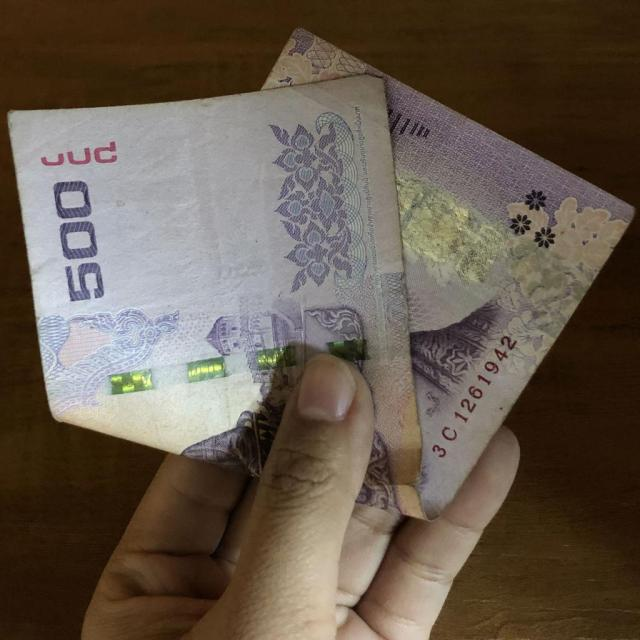THAI500: (9, 30, 634, 519)
